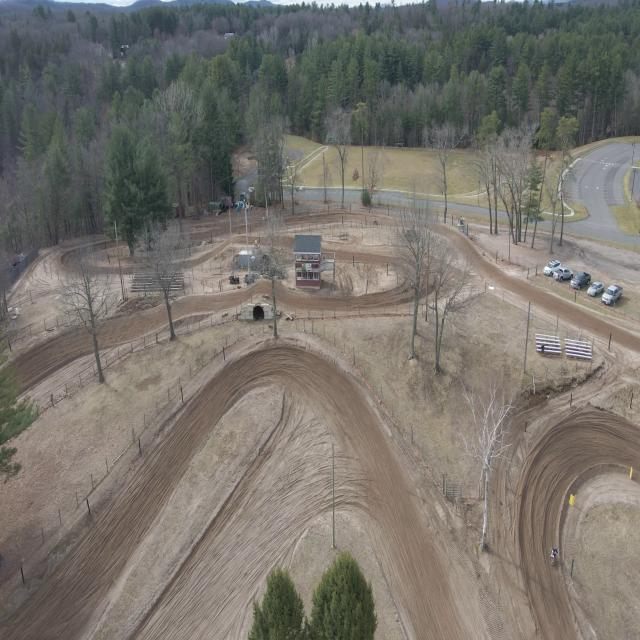vehicle: (602, 284, 624, 305), (570, 272, 591, 290), (552, 266, 574, 282), (262, 266, 286, 280), (544, 260, 562, 277), (244, 272, 263, 286), (588, 281, 604, 297), (549, 545, 558, 566), (229, 274, 239, 286), (541, 344, 545, 357), (373, 217, 378, 226), (460, 216, 462, 226)
